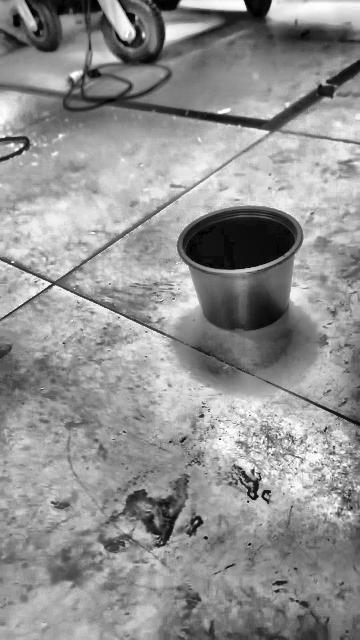pot: (177, 206, 303, 330)
